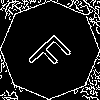F: (25, 25, 80, 79)
